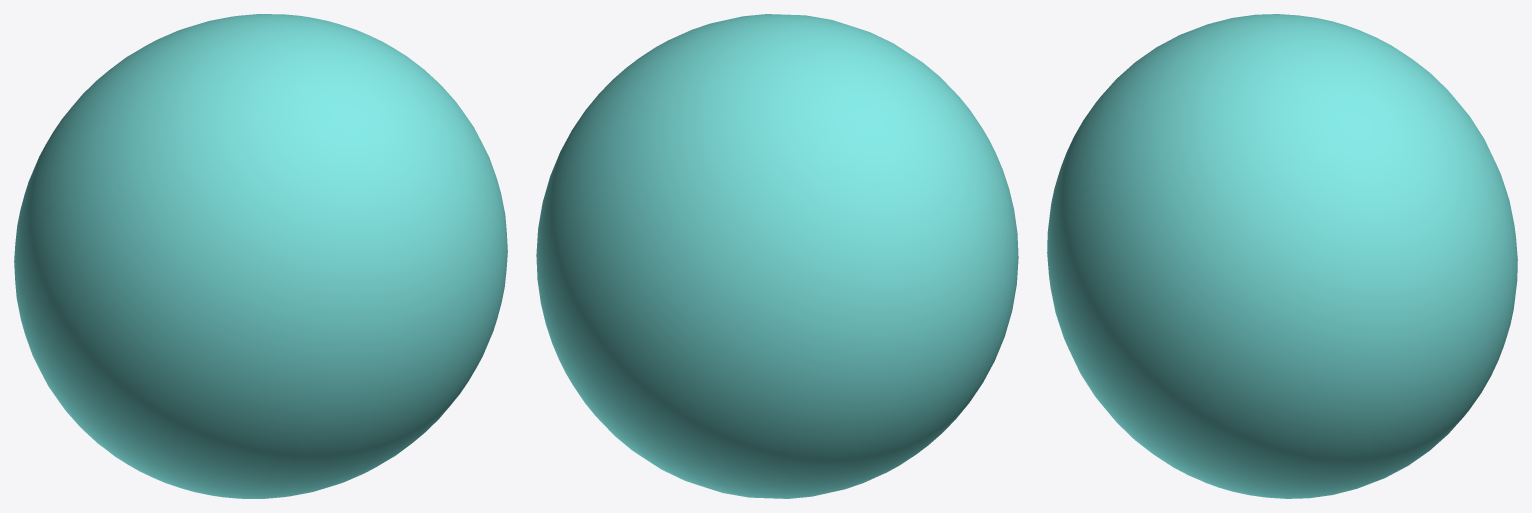
Rendered from Vivid.glb.
3 renders of one model, left to right at view 1: azimuth 30°, elevation 25°; view 2: azimuth 150°, elevation 25°; view 3: azimuth 270°, elevation 25°, orthographic. The views are drawn at different scales.
Parts seen in each view (by area): view 1: mesh_id35; view 2: mesh_id35; view 3: mesh_id35.
Boxes of the visible parts, x1=… form: mesh_id35: x1=14, y1=14, x2=507, y2=498; mesh_id35: x1=536, y1=14, x2=1018, y2=498; mesh_id35: x1=1047, y1=14, x2=1517, y2=498.
Size of the model in its own units: 0.8993 by 0.8892 by 0.8646.
Materials: 1 (1 with a texture image).
